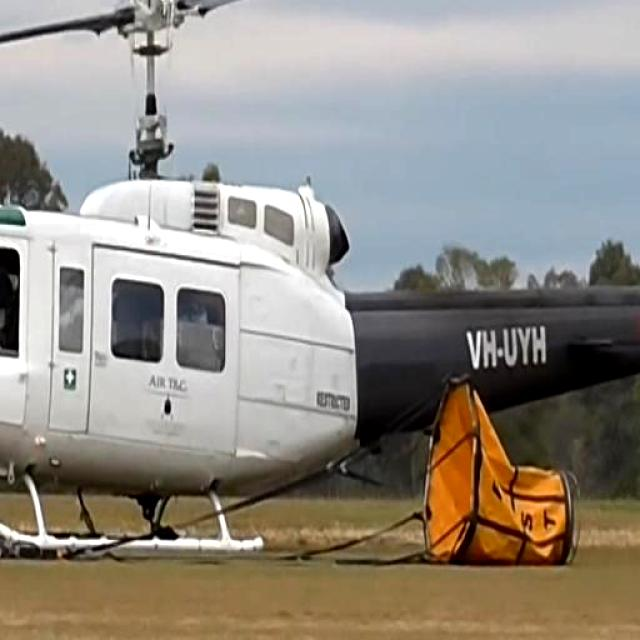drone: (0, 0, 640, 576)
